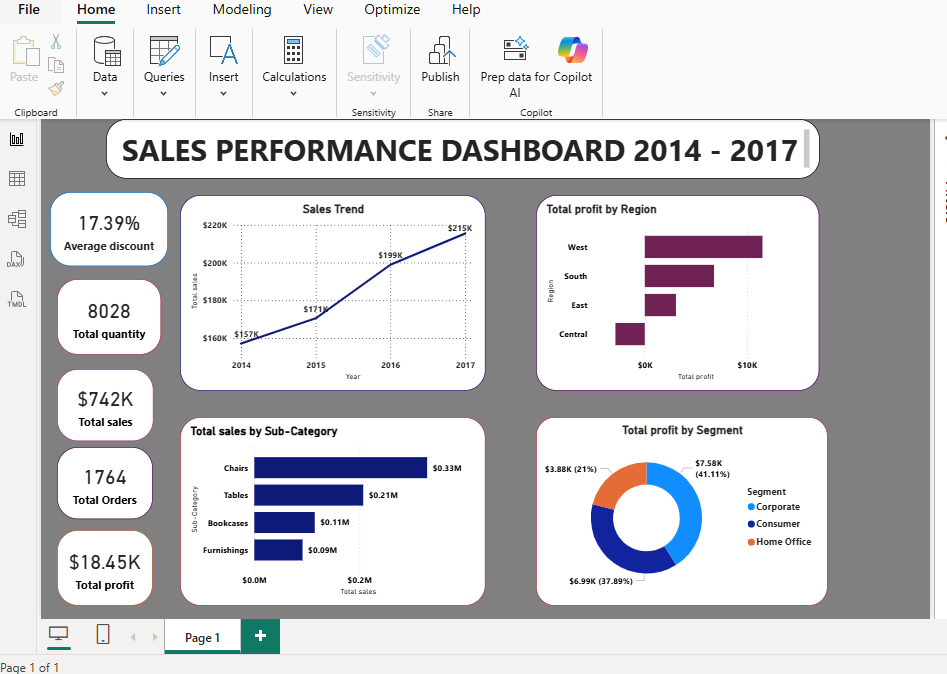

This screenshot's page, from the dashboard's own definition file:
{"tool":"powerbi","page":{"name":"Page 1","canvas":[1280,720],"ordinal":0},"visuals":[{"type":"card","fields":{"Values":["Table.Total profit"]},"box":[23.2,591.7,137.7,109.1],"z":0},{"type":"card","fields":{"Values":["Table.Total Orders"]},"box":[23.2,472,137.7,103.7],"z":1000},{"type":"card","fields":{"Values":["Table.Total sales"]},"box":[23.2,359.3,139.4,103.7],"z":2000},{"type":"card","fields":{"Values":["Table.Total quantity"]},"box":[23.2,230.6,150.2,109.1],"z":3000},{"type":"card","fields":{"Values":["Table.Average discount"]},"box":[12.5,105.5,169.8,107.3],"z":4000},{"type":"lineChart","title":"Sales Trend","fields":{"Category":["stores_sales_forecasting.Order Date.Variation.Date Hierarchy.Year","stores_sales_forecasting.Order Date.Variation.Date Hierarchy.Quarter","stores_sales_forecasting.Order Date.Variation.Date Hierarchy.Month","stores_sales_forecasting.Order Date.Variation.Date Hierarchy.Day"],"Y":["Table.Total sales"]},"box":[200.2,109.1,439.8,282.5],"z":5000},{"type":"clusteredBarChart","fields":{"Category":["stores_sales_forecasting.Sub-Category"],"Y":["Table.Total sales"]},"box":[200.2,429.1,439.8,271.7],"z":6000},{"type":"donutChart","fields":{"Category":["stores_sales_forecasting.Segment"],"Y":["Table.Total profit"]},"box":[713.3,429.1,420.1,271.7],"z":7000},{"type":"barChart","fields":{"Category":["stores_sales_forecasting.Region"],"Y":["Table.Total profit"]},"box":[713.3,109.1,407.6,282.5],"z":8000},{"type":"textbox","box":[93.6,0,1028.2,86.4],"z":10000}]}

Visuals, with their boxes in screenshot pixels (x1, y1, x2, y2):
card - Table.Total profit: 48 532 145 609
card - Table.Total Orders: 48 448 145 521
card - Table.Total sales: 48 369 146 442
card - Table.Total quantity: 48 278 154 355
card - Table.Average discount: 41 190 160 266
"Sales Trend" lineChart: 173 193 482 391
clusteredBarChart - stores_sales_forecasting.Sub-Category x Table.Total sales: 173 418 482 609
donutChart - stores_sales_forecasting.Segment x Table.Total profit: 534 418 830 609
barChart - stores_sales_forecasting.Region x Table.Total profit: 534 193 821 391
textbox: 98 116 822 177
